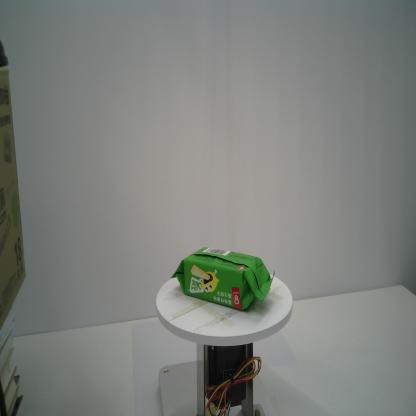Dessert: (170, 246, 275, 311)
